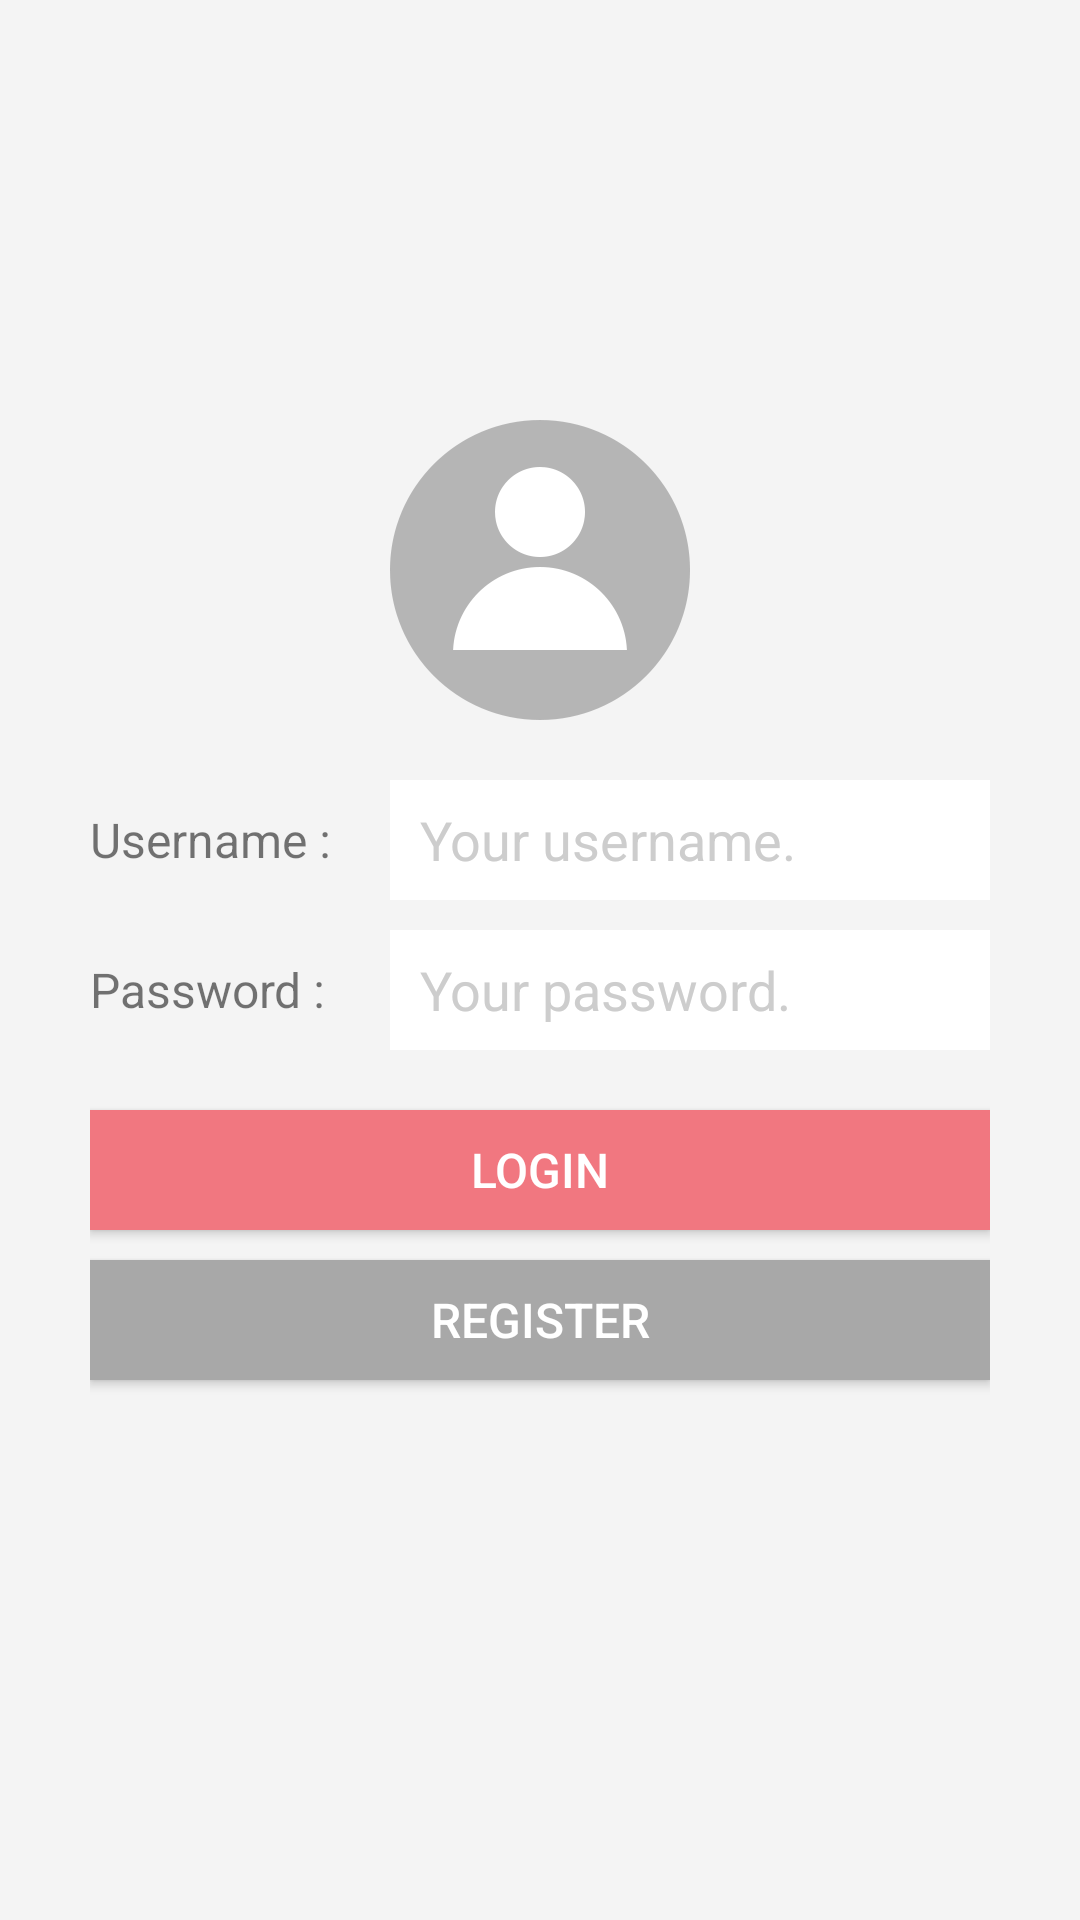

Where icons sit on this 1080 x 1920 app screen, as [x1, y1, x2, y2]:
users: [390, 420, 690, 720]
